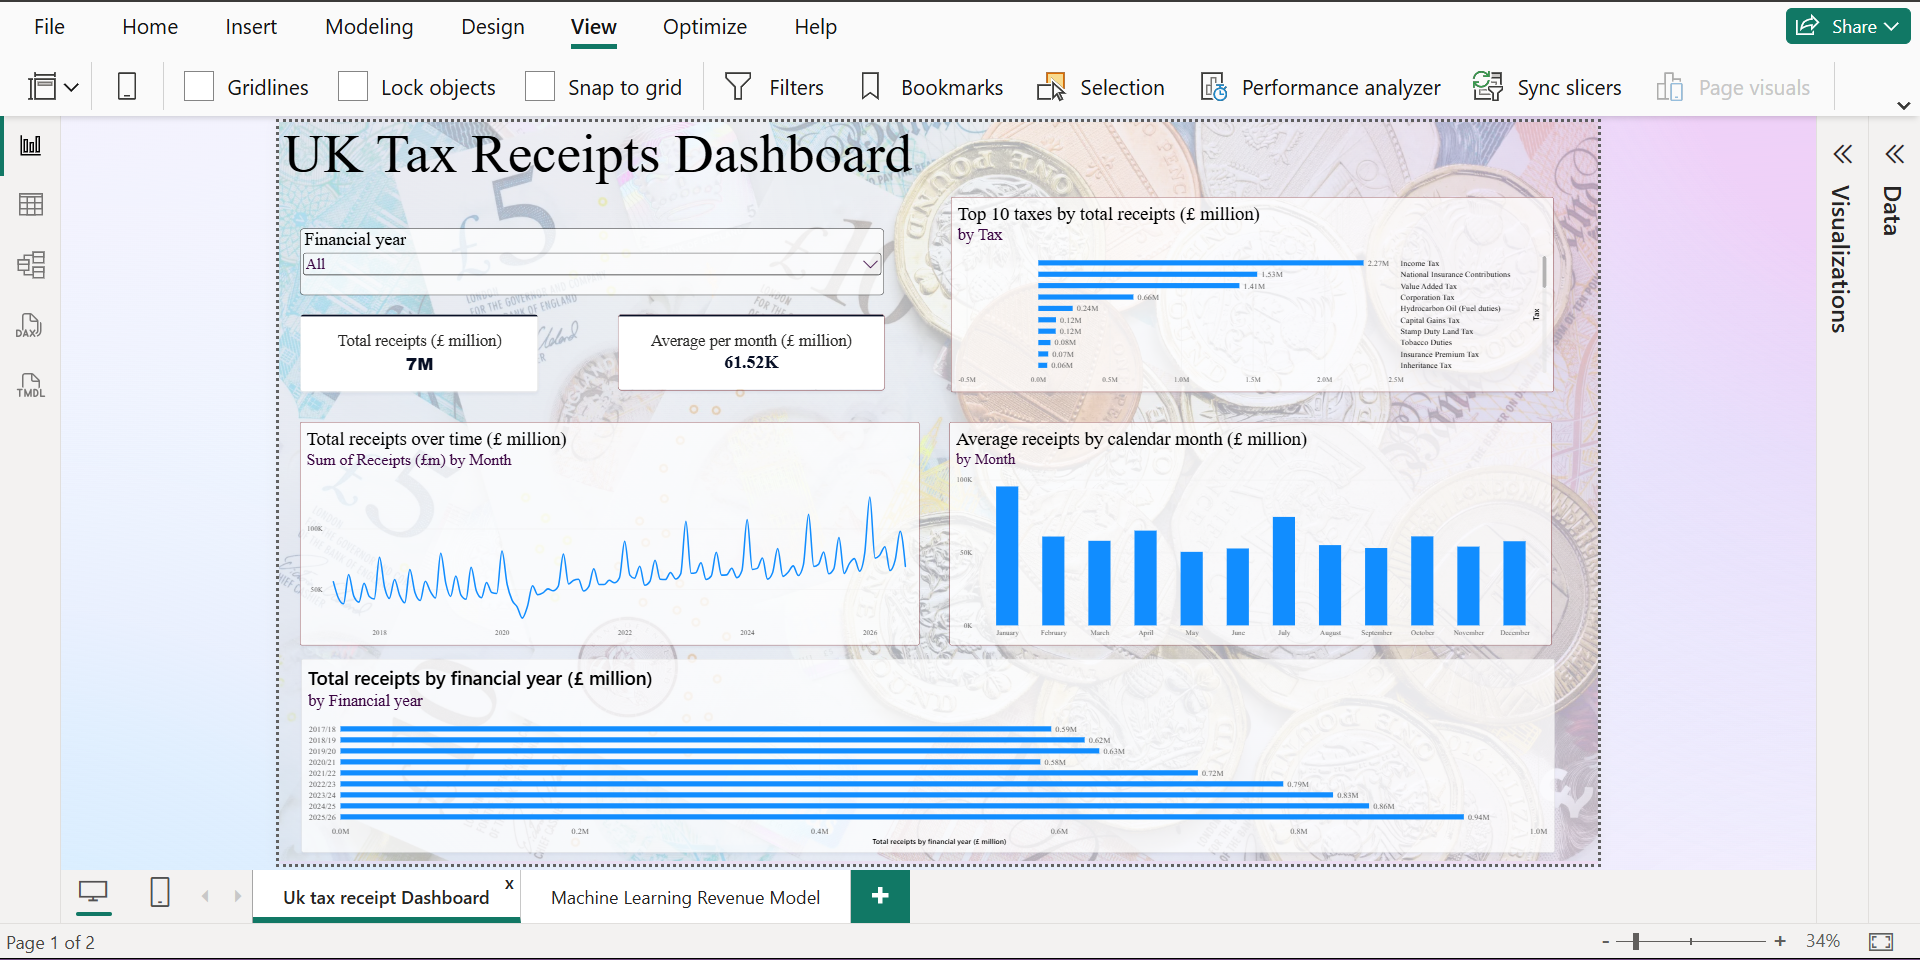

The dashboard page shown, as its layout file describes it:
{"tool":"powerbi","page":{"name":"Uk tax receipt Dashboard","canvas":[2560,1440],"ordinal":0},"visuals":[{"type":"textbox","box":[8.7,0,1294.5,145.5],"z":0},{"type":"cardVisual","fields":{"Data":["Sum(hmrc_long.Receipts (£m))"]},"box":[40.8,334.8,465.8,189.2],"z":1000},{"type":"cardVisual","fields":{"Data":["Avg(hmrc_long.Receipts (£m))"]},"box":[657.9,334.8,518.2,186.3],"z":2000},{"type":"lineChart","title":"Total receipts over time (£ million)","fields":{"Category":["hmrc_long.Month"],"Y":["Sum(hmrc_long.Receipts (£m))"]},"box":[39.4,581.5,1202.3,433.1],"z":3000},{"type":"clusteredColumnChart","fields":{"Category":["hmrc_long.Month.Variation.Date Hierarchy.Month"],"Y":["Avg(hmrc_long.Receipts (£m))"]},"box":[1302.2,581.5,1169,433.1],"z":4000},{"type":"slicer","fields":{"Values":["hmrc_long.Financial year"]},"box":[40.8,145.6,1135.3,142.6],"z":5000},{"type":"clusteredBarChart","fields":{"Category":["hmrc_long.Tax"],"Y":["Sum(hmrc_long.Receipts (£m))"]},"box":[1305.1,145.7,1169.1,378.9],"z":6000},{"type":"clusteredBarChart","fields":{"Category":["hmrc_long.Financial year"],"Y":["Sum(hmrc_long.Receipts (£m))"]},"box":[42.4,1041.8,2431.8,375.5],"z":7000}]}

Visuals, with their boxes on the page's 2560x1440 design canvas (x1, y1, x2, y2). These are canvas units, not pixel positions in the 1920x960 screenshot, which may show the page scaled, cropped or inside an application window:
textbox: (left=9, top=0, right=1303, bottom=146)
cardVisual - Sum(hmrc_long.Receipts (£m)): (left=41, top=335, right=507, bottom=524)
cardVisual - Avg(hmrc_long.Receipts (£m)): (left=658, top=335, right=1176, bottom=521)
"Total receipts over time (£ million)" lineChart: (left=39, top=582, right=1242, bottom=1015)
clusteredColumnChart - hmrc_long.Month.Variation.Date Hierarchy.Month x Avg(hmrc_long.Receipts (£m)): (left=1302, top=582, right=2471, bottom=1015)
slicer - hmrc_long.Financial year: (left=41, top=146, right=1176, bottom=288)
clusteredBarChart - hmrc_long.Tax x Sum(hmrc_long.Receipts (£m)): (left=1305, top=146, right=2474, bottom=525)
clusteredBarChart - hmrc_long.Financial year x Sum(hmrc_long.Receipts (£m)): (left=42, top=1042, right=2474, bottom=1417)
